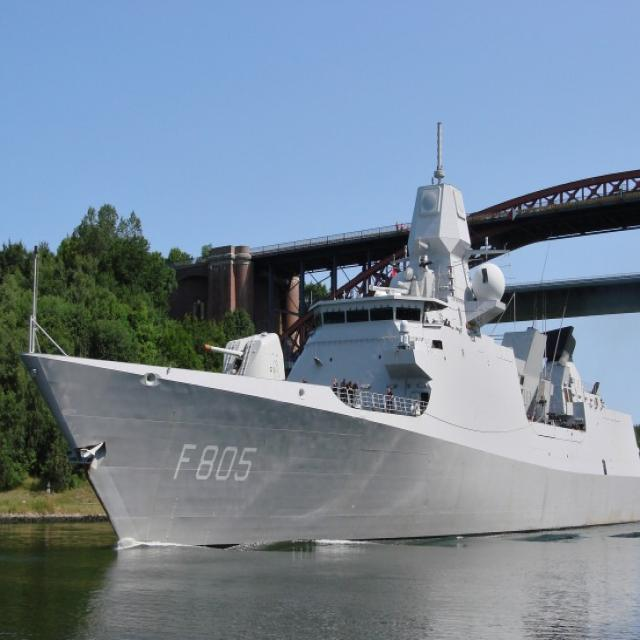Fragata: (21, 110, 640, 555)
